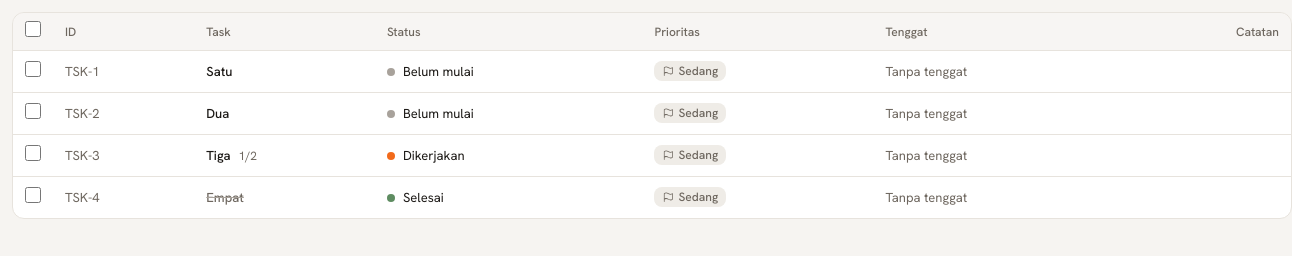
Test case: TaskTable selection › shift-click selects the range from the last click
Click the checkbox named "Pilih Satu".
click(33, 69)  # box [25,61,41,77]
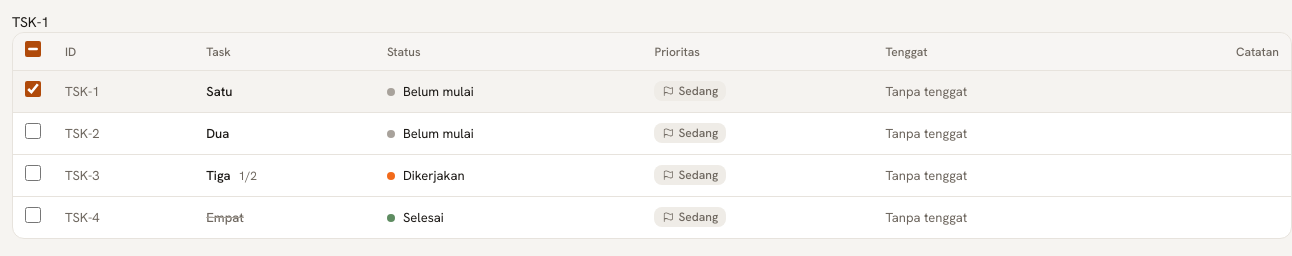
Click the checkbox named "Pilih Empat".
click(33, 215)  # box [25,207,41,223]
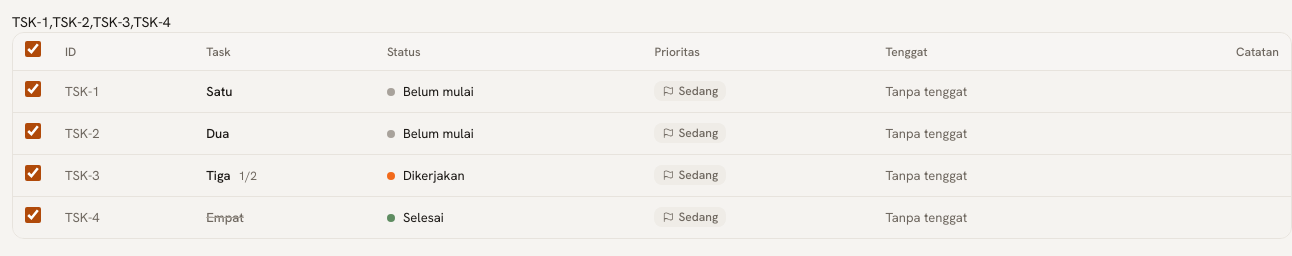
Now the text with test id "picked" reads "TSK-1,TSK-2,TSK-3,TSK-4", box [12,13,171,31]
